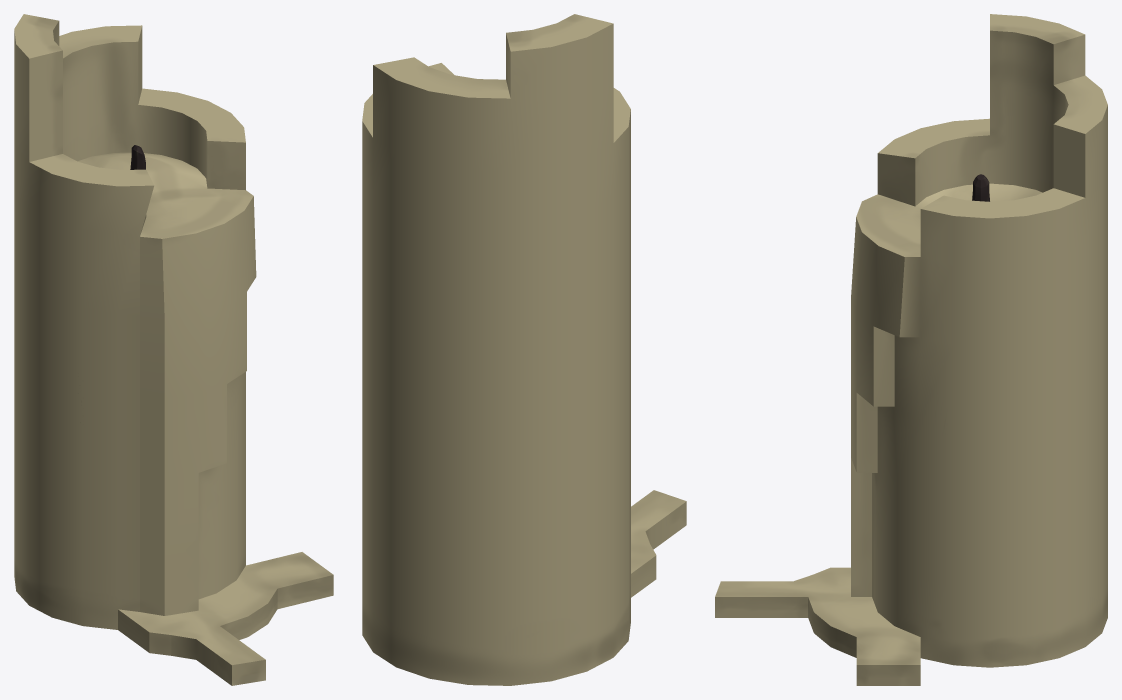
The model's file is FinalCandle.fbx.
3 renders of one model, left to right at view 1: azimuth 30°, elevation 25°; view 2: azimuth 150°, elevation 25°; view 3: azimuth 270°, elevation 25°, orthographic. The views are drawn at different scales.
Parts seen in each view (by area): view 1: Candle; view 2: Candle; view 3: Candle.
Part boxes in pixels (x1,y1,x2,y2): Candle: [14, 14, 333, 685]; Candle: [362, 14, 686, 685]; Candle: [715, 14, 1107, 685].
Size of the model in its own units: 0.4137 by 0.906 by 0.5824.
1 material, 1 textured.
